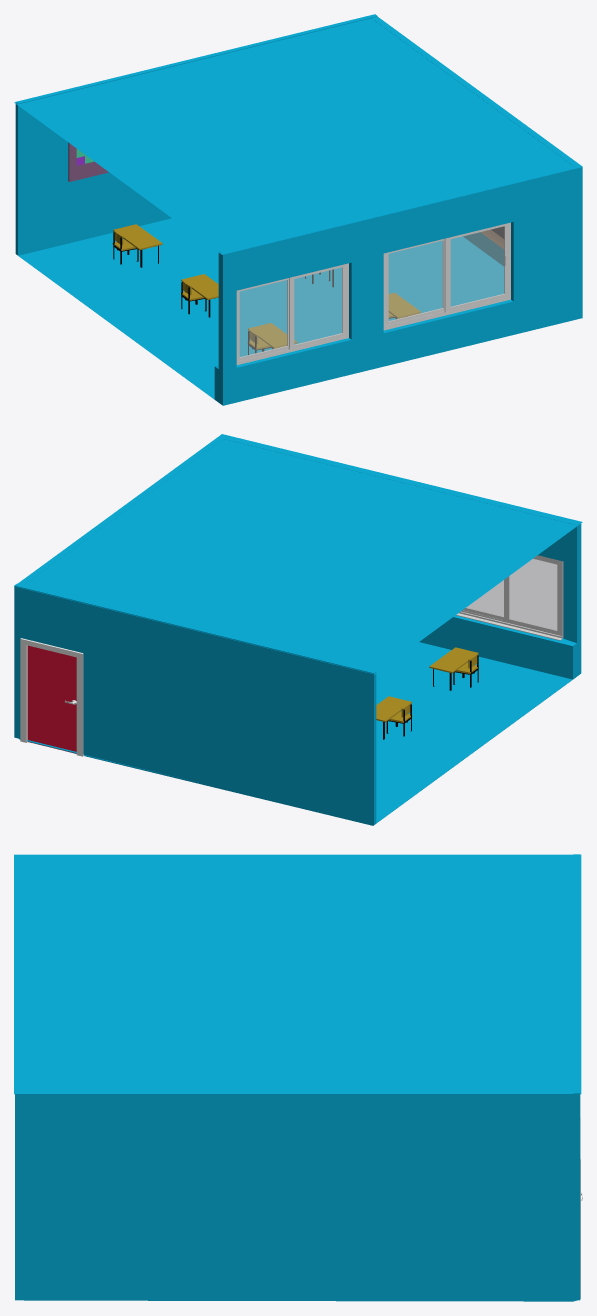
File: classroom.glb
3 views of the same model, one above another, from view 1: azimuth 30°, elevation 25°; view 2: azimuth 150°, elevation 25°; view 3: azimuth 270°, elevation 25° (orthographic). The views are drawn at different scales.
Parts seen in each view (by area): view 1: WallsAndFloor, Roof, Window.R.001, Window.L.001, Window.R, Window.L, Desks, WindowFrame.001, Cube.006, WindowFrame; view 2: WallsAndFloor, Roof, Door, Window.L, Desks, DoorFrame, Window.R, WindowFrame; view 3: Roof, WallsAndFloor.
Boxes of the visible parts, box(x1,y1,x2,y2) form: WallsAndFloor: box(15, 14, 582, 405); Roof: box(14, 18, 581, 254); Window.R.001: box(444, 223, 507, 312); Window.L.001: box(386, 239, 444, 325); Window.R: box(288, 264, 345, 349); Window.L: box(238, 278, 288, 361); Desks: box(112, 224, 420, 354); WindowFrame.001: box(383, 222, 510, 330); Cube.006: box(68, 142, 108, 181); WindowFrame: box(236, 263, 348, 365); WallsAndFloor: box(14, 434, 581, 825); Roof: box(14, 434, 582, 674); Door: box(27, 645, 76, 753); Window.L: box(504, 556, 560, 635); Desks: box(376, 647, 478, 739); DoorFrame: box(20, 638, 84, 756); Window.R: box(463, 580, 504, 620); WindowFrame: box(459, 555, 563, 638); Roof: box(14, 854, 581, 1094); WallsAndFloor: box(15, 854, 580, 1301).
Bounding box in the file's own units: 40.2 × 16.55 × 40.31.
